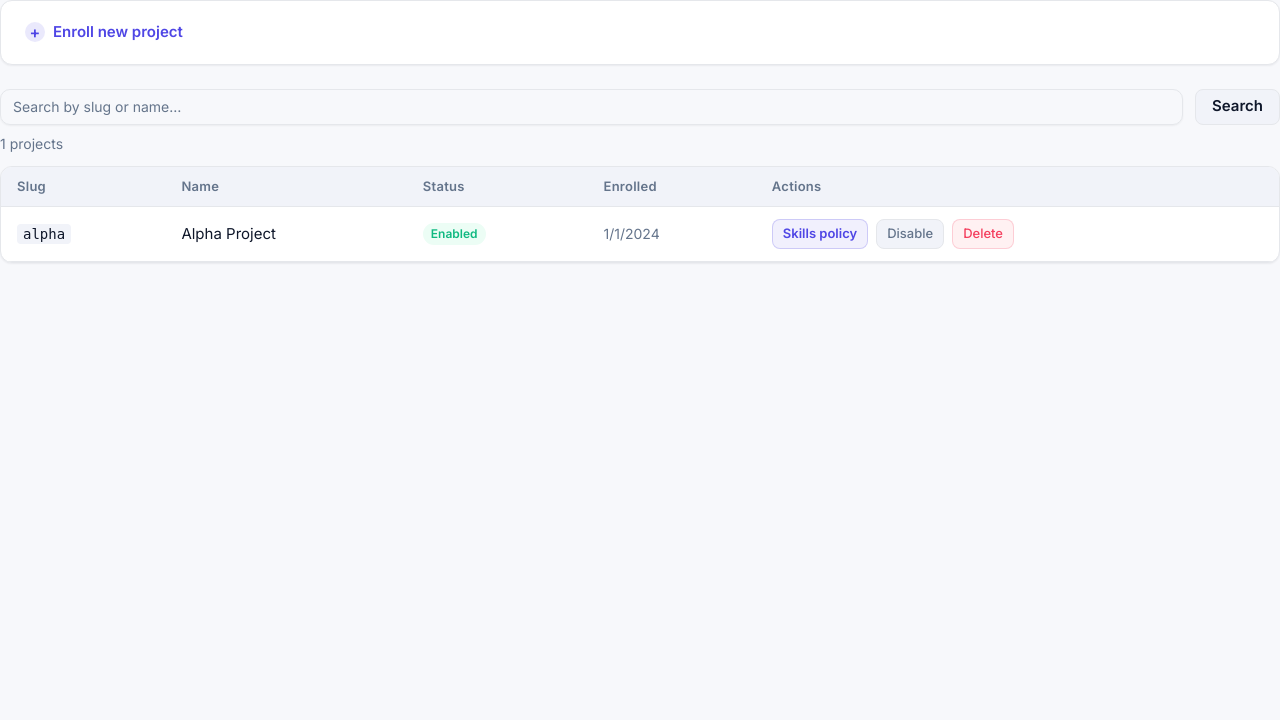
Test case: ProjectsForm server-side list controls › opens a project policy aside and filters skills locally
Click the button "Skills policy": [820, 234] box [772,219,868,248]
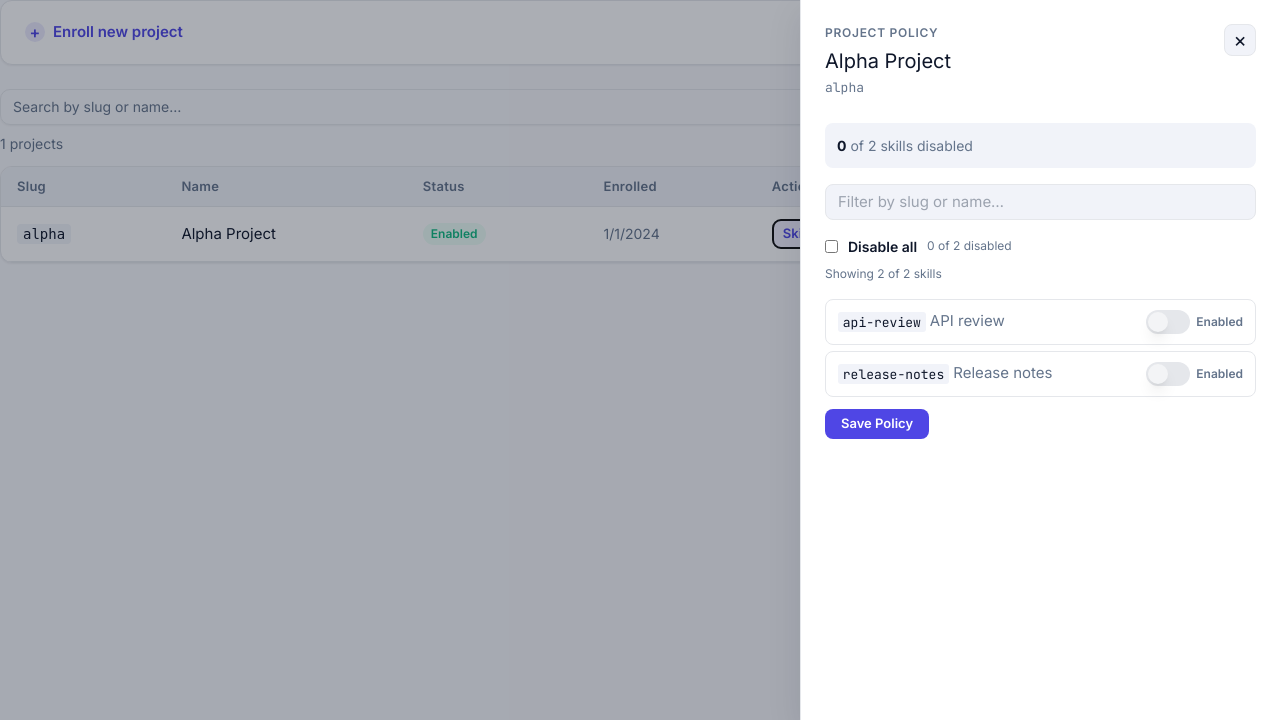
Result: the heading "Alpha Project" is shown at [825,46,951,76]
Result: the text "Showing 2 of 2 skills" is shown at [825,266,942,280]
In the search field named "Filter skills by slug or name": [1040, 202] box [825,184,1256,220], type "release"
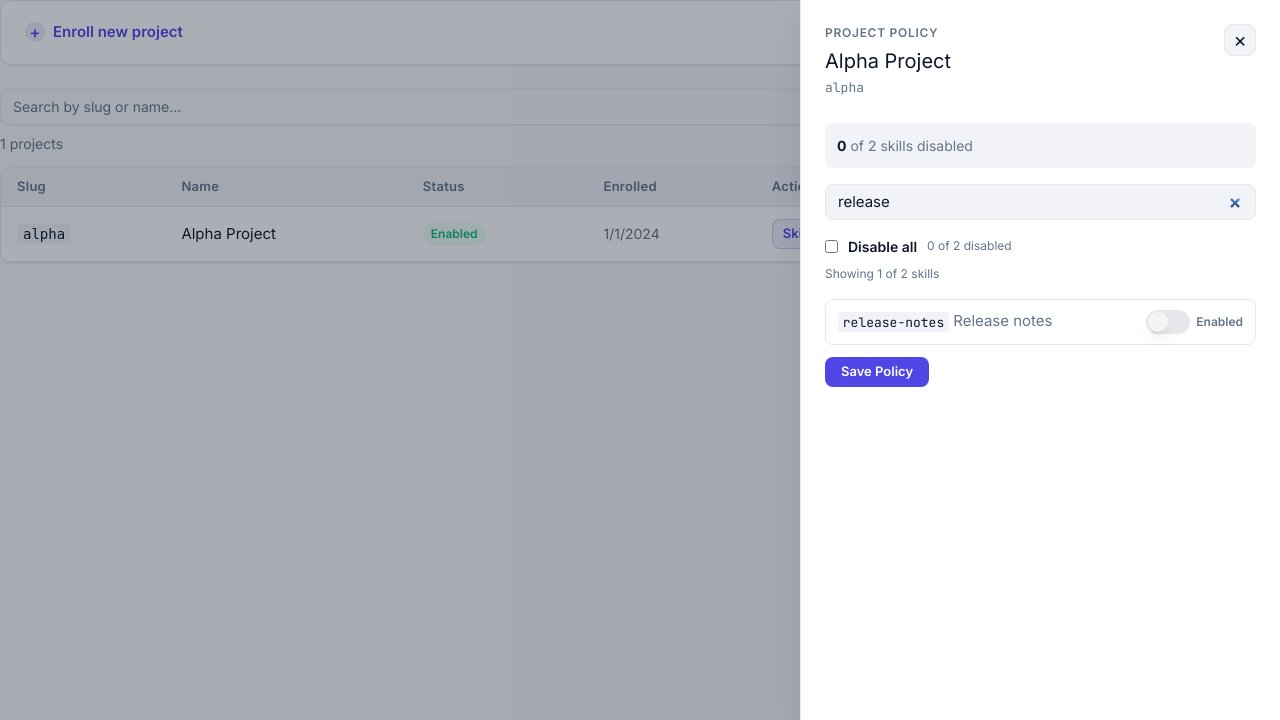
Result: the text "release-notes" is shown at [838,312,949,332]
Result: the text "api-review" is gone
Result: the text "Showing 1 of 2 skills" is shown at [825,266,939,280]
